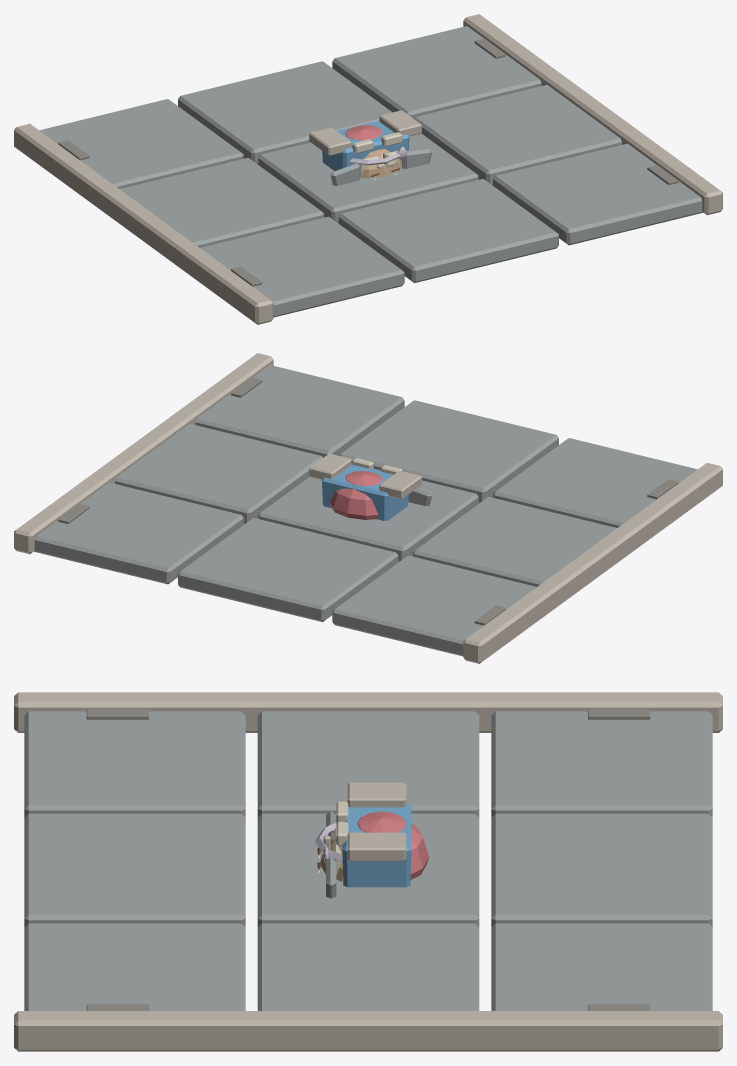
The model's file is KingdomsMeshRetry.gltf.
3 views of the same model, one above another, from view 1: azimuth 30°, elevation 25°; view 2: azimuth 150°, elevation 25°; view 3: azimuth 270°, elevation 25° (orthographic). The views are drawn at different scales.
Visible parts, largest first — view 1: Iron_RoadTile, Iron_Peasant_Torso__Blue, Rune_Archer_Head__Red; view 2: Iron_RoadTile, Iron_Peasant_Torso__Blue, Rune_Archer_Head__Red; view 3: Iron_RoadTile, Iron_Peasant_Torso__Blue, Rune_Archer_Head__Red.
Part boxes in pixels (x1,y1,x2,y2): Iron_RoadTile: (14, 14, 722, 324); Iron_Peasant_Torso__Blue: (309, 110, 431, 185); Rune_Archer_Head__Red: (345, 125, 407, 179); Iron_RoadTile: (14, 353, 722, 663); Iron_Peasant_Torso__Blue: (309, 453, 431, 520); Rune_Archer_Head__Red: (329, 471, 382, 519); Iron_RoadTile: (14, 692, 722, 1051); Iron_Peasant_Torso__Blue: (323, 782, 411, 898); Rune_Archer_Head__Red: (315, 811, 428, 881).
Bounding box in the file's own units: 4.54 × 0.725 × 4.1.
